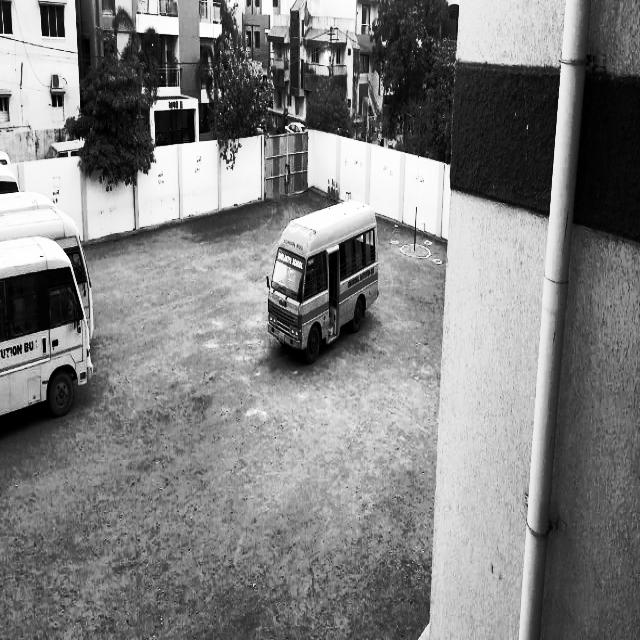Bus: (262, 178, 391, 380), (6, 243, 100, 419), (19, 196, 102, 321)
